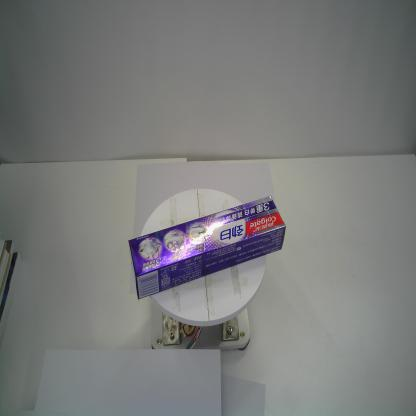Personal Hygiene: (127, 194, 287, 302)
